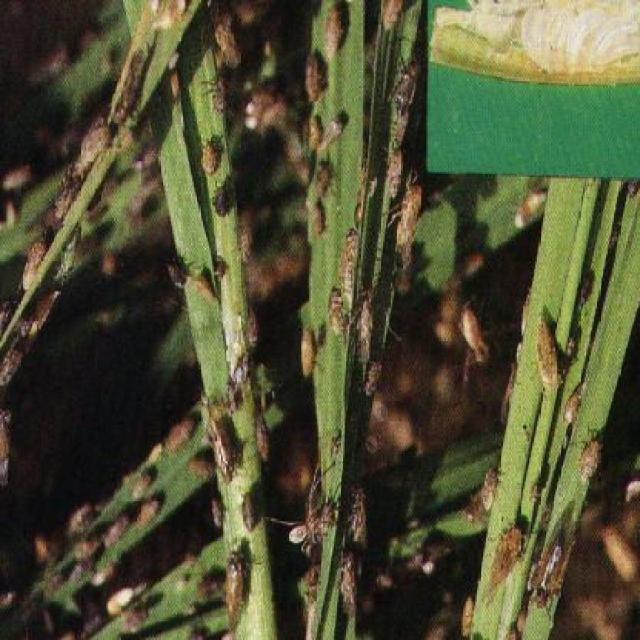brown-planthopper: (532, 533, 578, 609), (488, 529, 524, 593), (534, 316, 560, 392), (223, 552, 246, 633), (210, 14, 239, 69), (23, 238, 52, 291), (397, 189, 423, 248), (81, 125, 113, 169), (208, 424, 232, 482), (167, 410, 198, 450), (398, 59, 418, 118), (564, 384, 588, 427), (482, 466, 502, 517), (323, 286, 343, 336), (340, 564, 358, 618), (358, 301, 373, 362), (323, 6, 340, 59), (580, 434, 598, 484), (255, 415, 272, 463), (339, 256, 355, 306), (191, 271, 215, 303), (321, 120, 345, 149), (354, 502, 369, 547), (242, 492, 258, 534), (201, 142, 219, 178), (167, 258, 187, 290), (299, 330, 313, 375), (389, 149, 403, 194), (244, 310, 259, 352), (317, 168, 335, 200), (305, 53, 317, 101), (212, 78, 228, 114), (383, 1, 402, 28), (214, 187, 231, 216), (310, 206, 324, 240), (241, 222, 253, 261), (307, 118, 321, 151)
